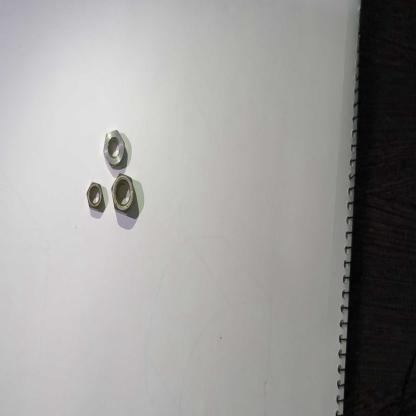NUTS: (110, 169, 138, 217), (101, 124, 129, 170), (86, 177, 106, 214)
